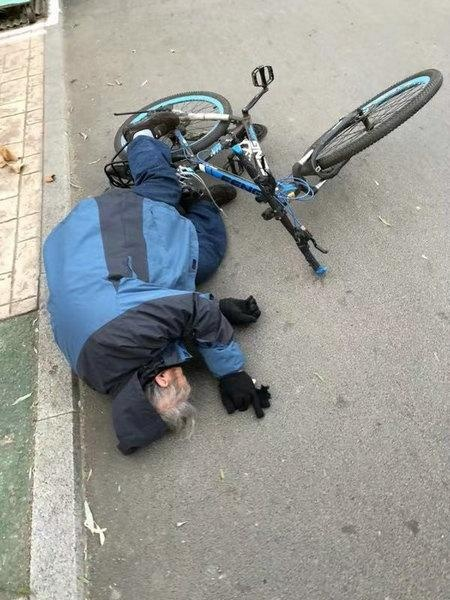falling: (33, 81, 269, 471)
